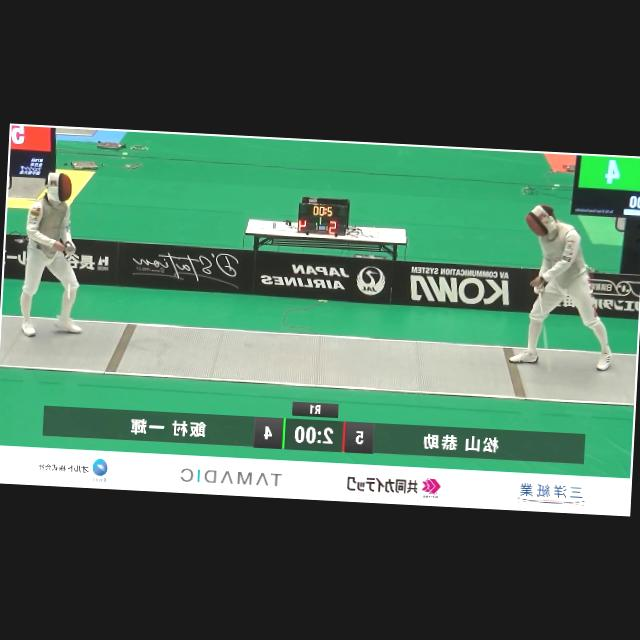blade: (524, 277, 562, 378), (62, 243, 78, 303)
